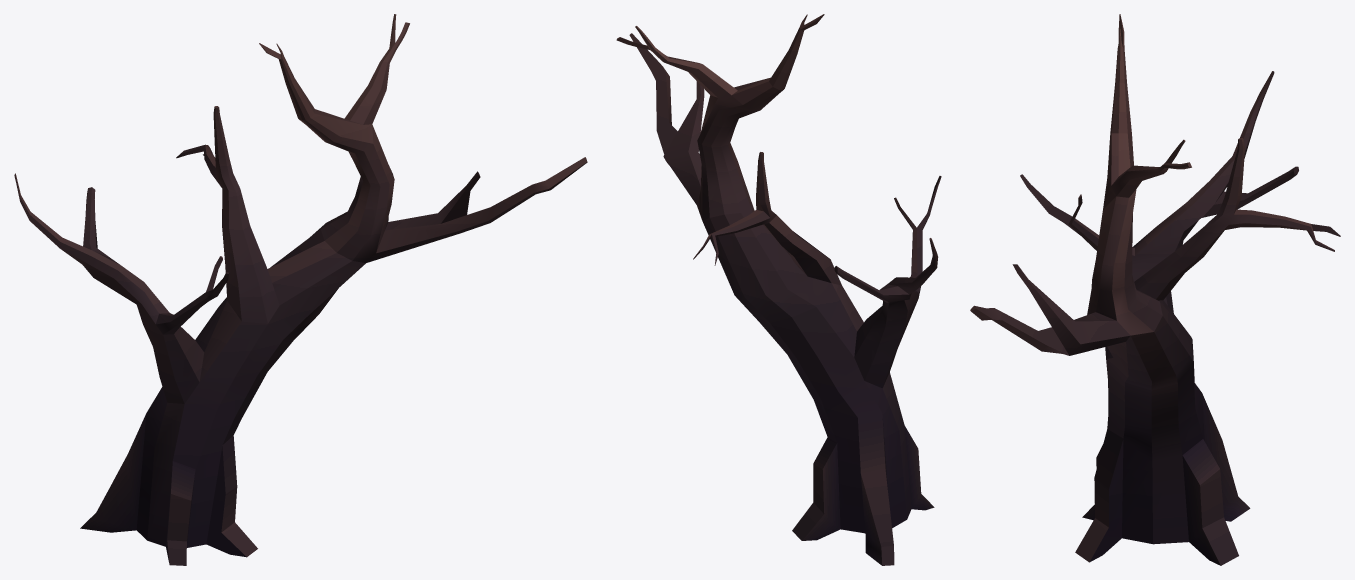
File: Dead_Tree2.fbx
3 renders of one model, left to right at view 1: azimuth 30°, elevation 25°; view 2: azimuth 150°, elevation 25°; view 3: azimuth 270°, elevation 25°, orthographic. The views are drawn at different scales.
Visible parts, largest first — view 1: Dead_Tree2; view 2: Dead_Tree2; view 3: Dead_Tree2.
Part boxes in pixels (x1=…): Dead_Tree2: x1=14, y1=14, x2=587, y2=565; Dead_Tree2: x1=616, y1=14, x2=941, y2=565; Dead_Tree2: x1=970, y1=14, x2=1340, y2=565.
Size of the model in its own units: 26.77 by 28.66 by 17.23.
